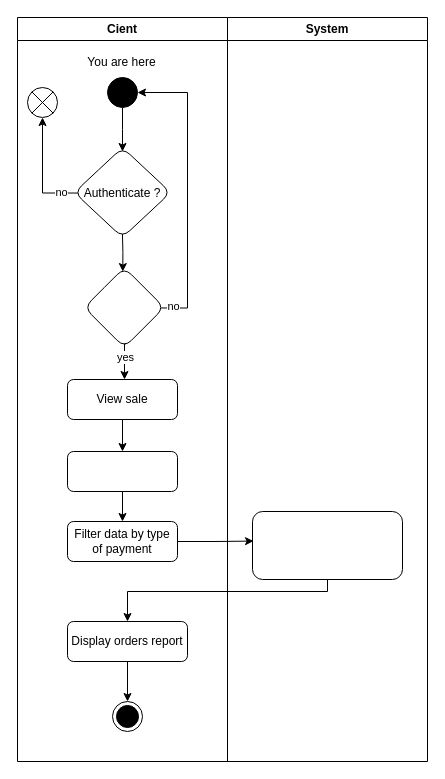
Some shapes in this 445 by 779 pixel diagram are drawn without their labels. The shapes that lost their labels are listed below. From the top down, each one's box as (x1, y1, x2, y2) in pixels, then its label:
(83, 266, 164, 348): Authorize ?
(66, 450, 178, 492): Filter data by date period
(252, 510, 402, 580): Fetch all data record related to orders base on filter data
